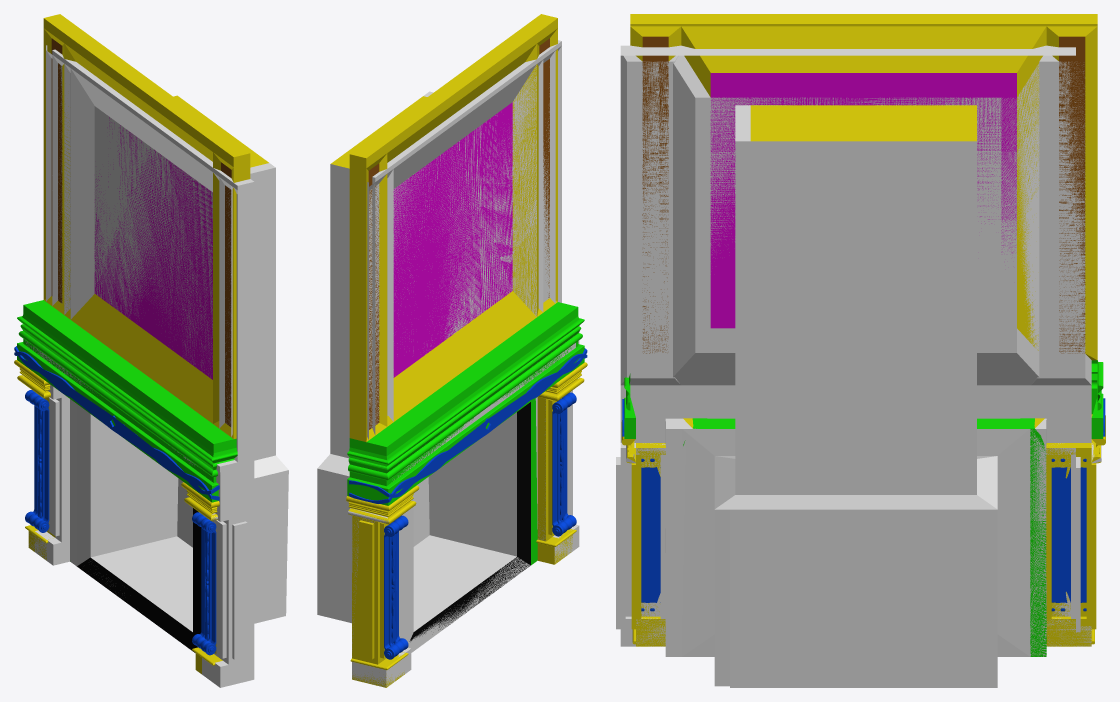
File: FinishedFireplaceX.fbx
The picture shows the model from 3 angles, left to right: view 1: azimuth 30°, elevation 25°; view 2: azimuth 150°, elevation 25°; view 3: azimuth 270°, elevation 25°; orthographic projection. The views are drawn at different scales.
Visible parts, largest first — view 1: Full Backup, Fireplace, SplitBackup, Cylinder, MainCurve, Small Curves; view 2: Fireplace, SplitBackup, Full Backup, Cylinder, MainCurve, Top of Post, Small Curves; view 3: Full Backup, Fireplace, SplitBackup, Cylinder, Top of Post.
Part boxes in pixels (left/top/right/bottom): Full Backup: left=35, top=49, right=288, bottom=687; Fireplace: left=14, top=14, right=268, bottom=674; SplitBackup: left=28, top=45, right=232, bottom=673; Cylinder: left=25, top=390, right=216, bottom=655; MainCurve: left=14, top=346, right=219, bottom=500; Small Curves: left=37, top=408, right=208, bottom=640; Fireplace: left=317, top=14, right=587, bottom=687; SplitBackup: left=317, top=50, right=567, bottom=687; Full Backup: left=372, top=40, right=579, bottom=681; Cylinder: left=384, top=392, right=576, bottom=659; MainCurve: left=349, top=348, right=587, bottom=503; Top of Post: left=348, top=343, right=578, bottom=523; Small Curves: left=391, top=411, right=563, bottom=644; Full Backup: left=616, top=45, right=1080, bottom=686; Fireplace: left=621, top=14, right=1105, bottom=687; SplitBackup: left=636, top=55, right=1091, bottom=656; Cylinder: left=641, top=458, right=1086, bottom=611; Top of Post: left=626, top=428, right=1101, bottom=645.
Size of the model in its own units: 98.02 by 425 by 293.
